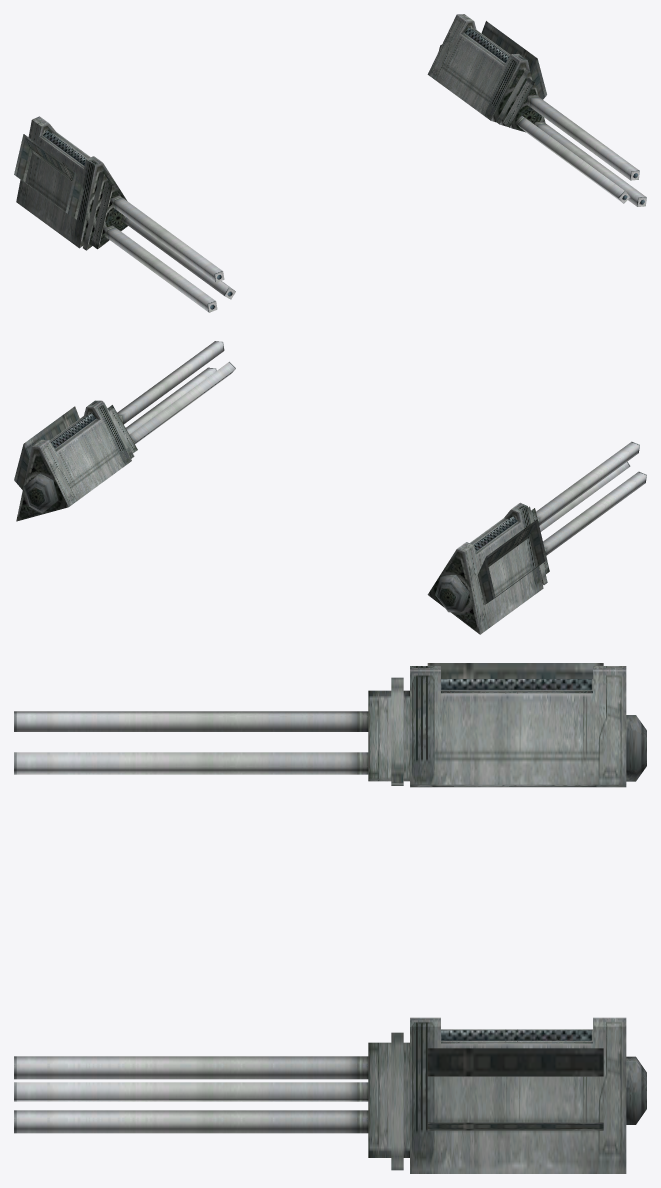
File: black_sun_fighter_heavy_weapon2_s04_l1.fbx
3 renders of one model, top to bottom at view 1: azimuth 30°, elevation 25°; view 2: azimuth 150°, elevation 25°; view 3: azimuth 270°, elevation 25°, orthographic. The views are drawn at different scales.
Visible parts, largest first — view 1: mesh_node; view 2: mesh_node; view 3: mesh_node.
Boxes of the visible parts, <box> form: mesh_node: <box>14,14,646,312</box>; mesh_node: <box>14,341,646,634</box>; mesh_node: <box>14,663,646,1173</box>.
Bounding box in the file's own units: 5.27 × 0.8377 × 3.51.
